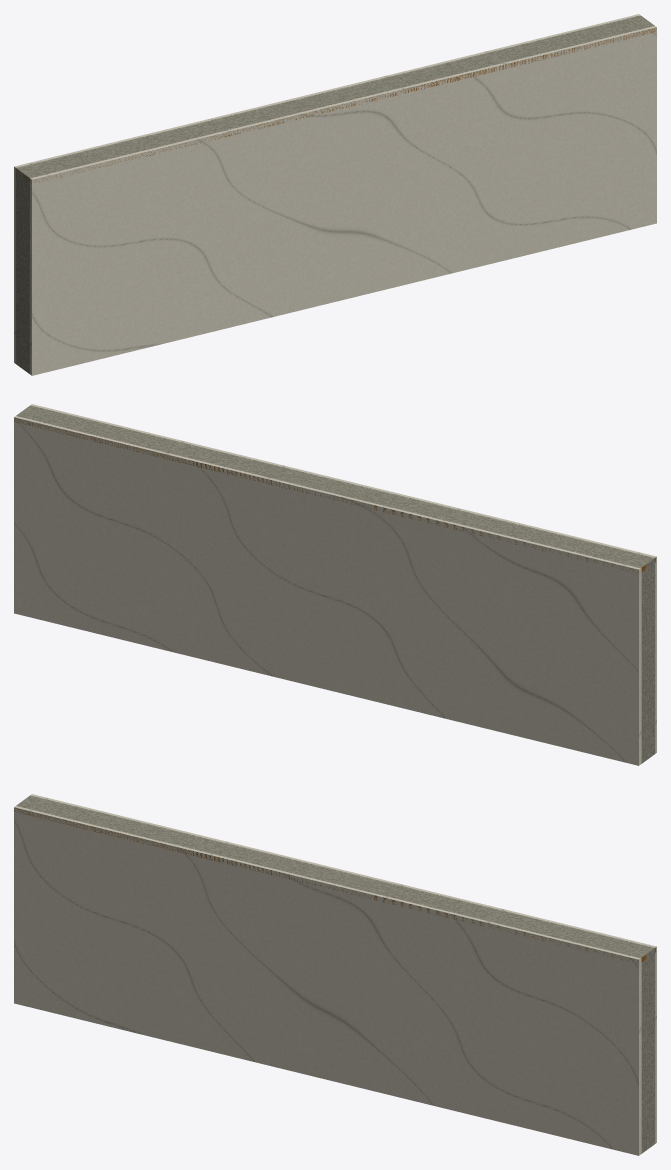
3 renders of one model, top to bottom at view 1: azimuth 30°, elevation 25°; view 2: azimuth 150°, elevation 25°; view 3: azimuth 330°, elevation 25°, orthographic.
Parts seen in each view (by area): view 1: Marble outer face, Parapet bearing wall, Marble inner face, Bronze weather cap; view 2: Marble inner face, Parapet bearing wall, Marble outer face, Bronze weather cap; view 3: Marble outer face, Parapet bearing wall, Marble inner face, Bronze weather cap.
Boxes of the visible parts, x1,y1,x2,y2 form: Marble outer face: (29, 26, 656, 375); Parapet bearing wall: (15, 15, 654, 374); Marble inner face: (14, 14, 640, 363); Bronze weather cap: (14, 28, 655, 182); Marble inner face: (14, 416, 641, 765); Parapet bearing wall: (16, 405, 655, 763); Marble outer face: (30, 404, 656, 753); Bronze weather cap: (14, 418, 656, 572); Marble outer face: (14, 806, 641, 1155); Parapet bearing wall: (16, 795, 655, 1153); Marble inner face: (30, 794, 656, 1143); Bronze weather cap: (14, 808, 656, 962).
Bounding box in the file's own units: 4 × 1.2 × 0.2.
3 materials, 3 textured.
